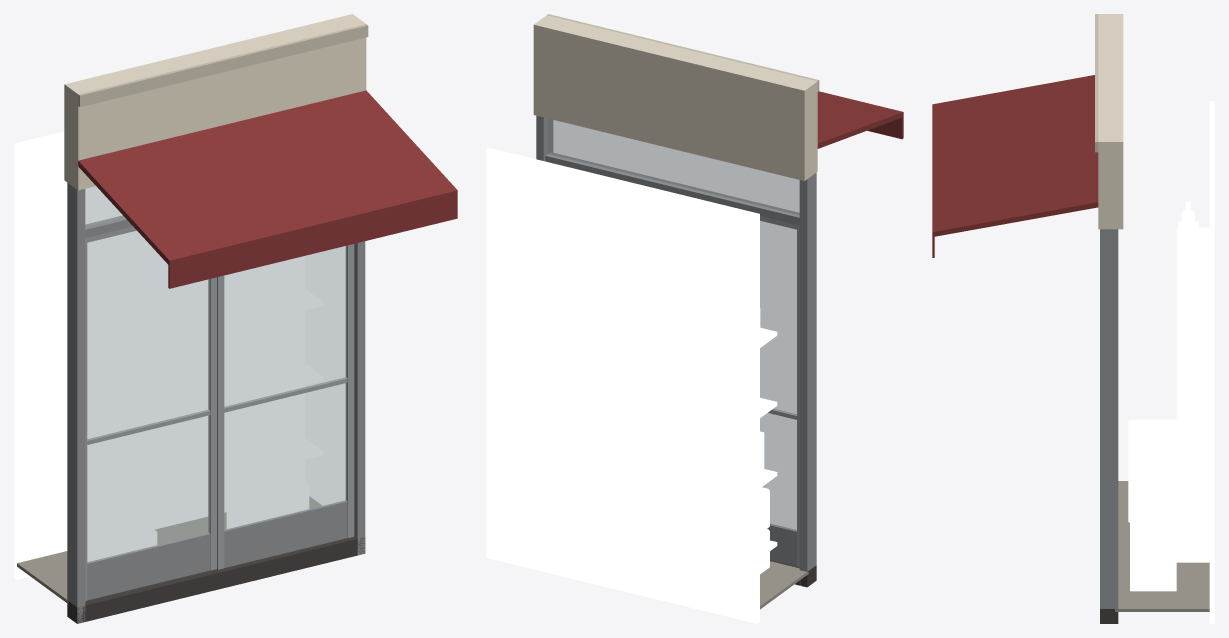
Rendered from building_bay_shopfront_01.glb.
3 views of the same model, side by side, from view 1: azimuth 30°, elevation 25°; view 2: azimuth 150°, elevation 25°; view 3: azimuth 270°, elevation 25° (orthographic). The views are drawn at different scales.
Parts seen in each view (by area): view 1: building_bay_shopfront_01; view 2: building_bay_shopfront_01; view 3: building_bay_shopfront_01.
Part boxes in pixels (x1,y1,x2,y2): building_bay_shopfront_01: (14,14,457,623); building_bay_shopfront_01: (486,14,903,623); building_bay_shopfront_01: (932,14,1214,623).
Bounding box in the file's own units: 1.82 × 3.2 × 1.7.
